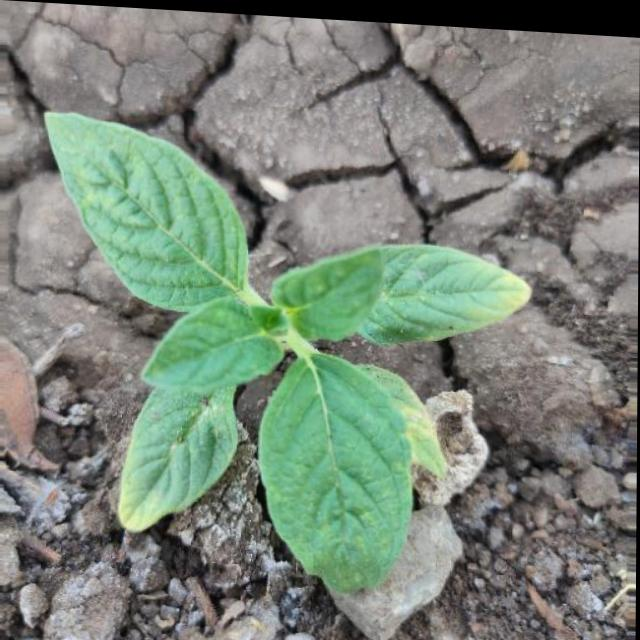crop: (30, 100, 536, 606)
